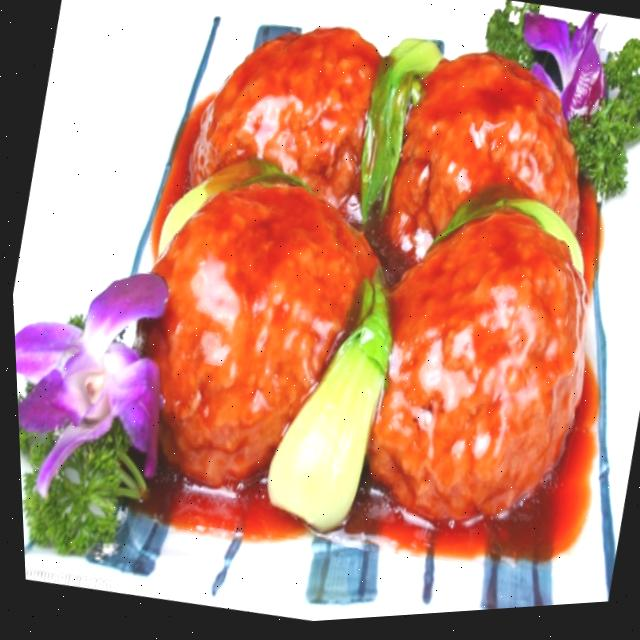猪肉菜式: (10, 0, 640, 621)
